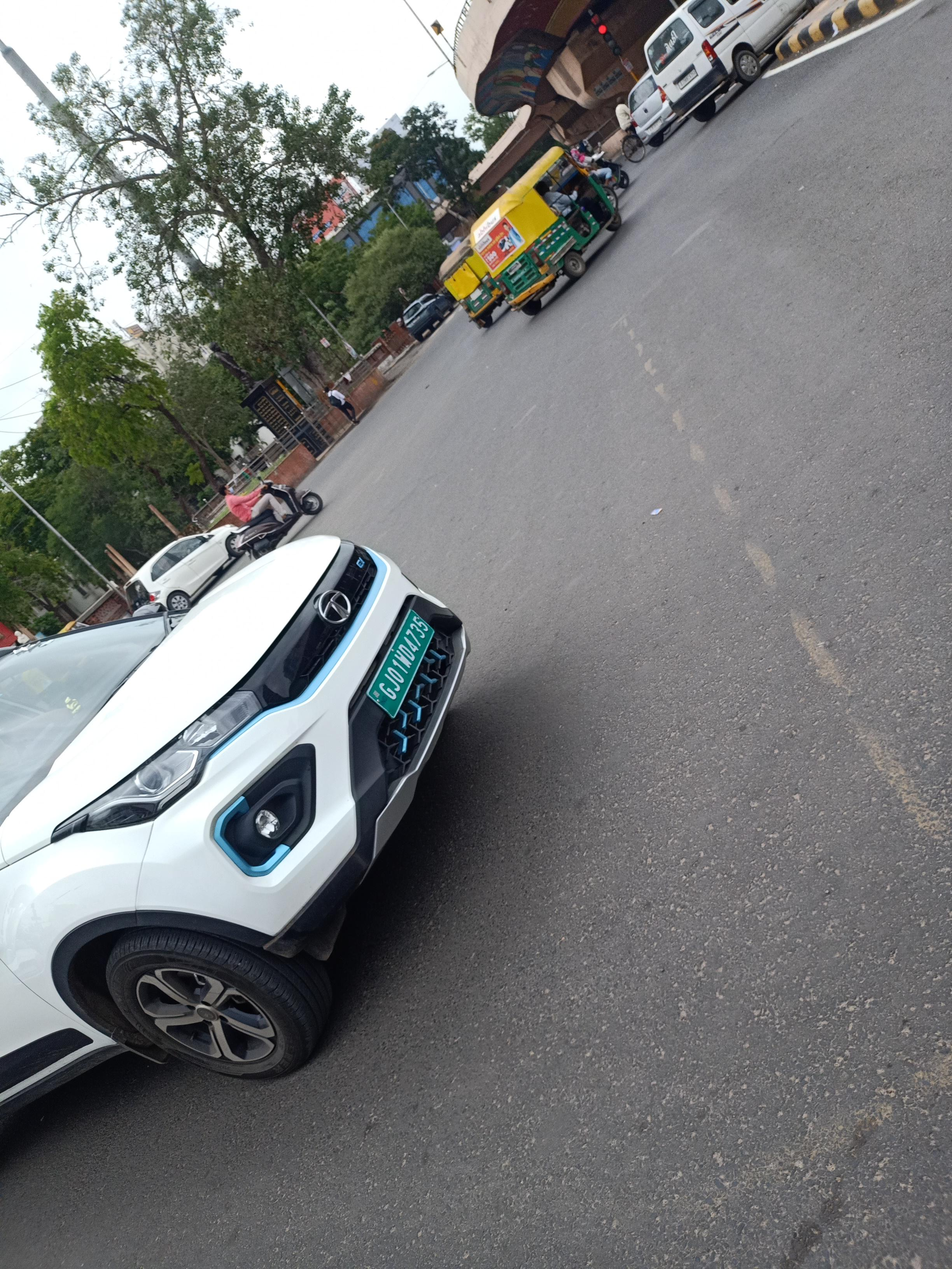green license plate: (362, 600, 436, 725)
